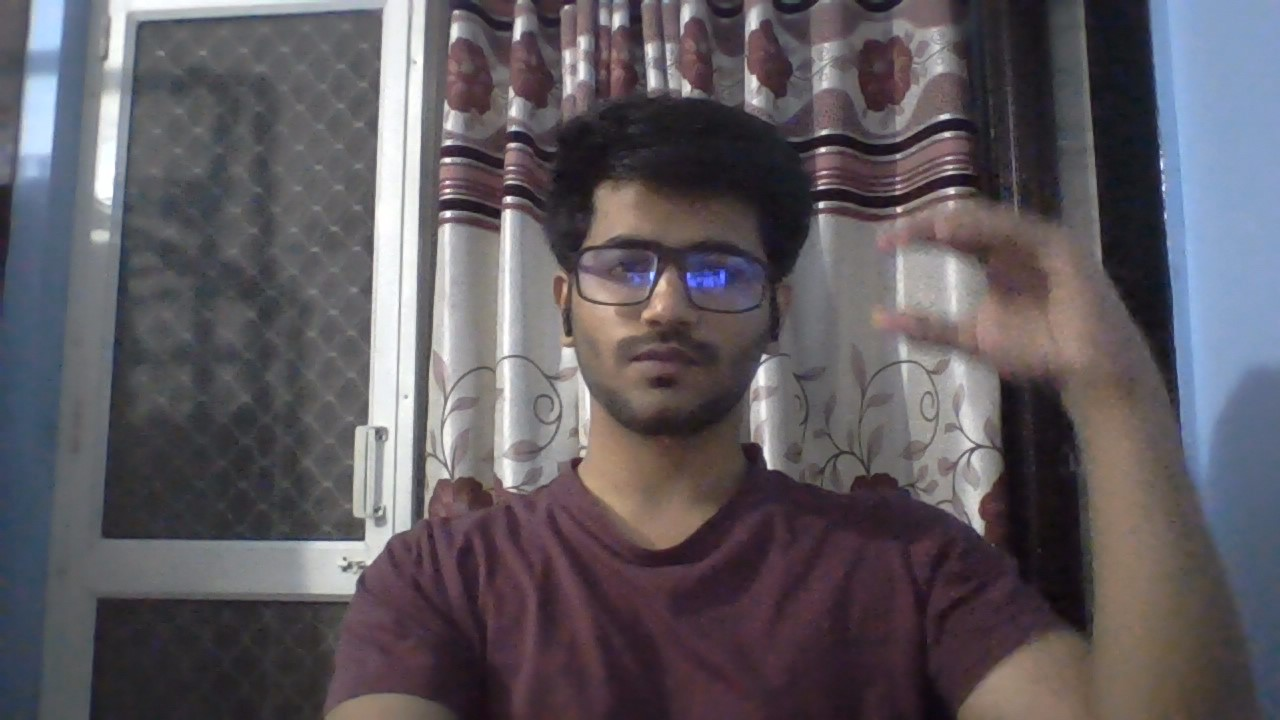C: (850, 155, 1176, 410)
